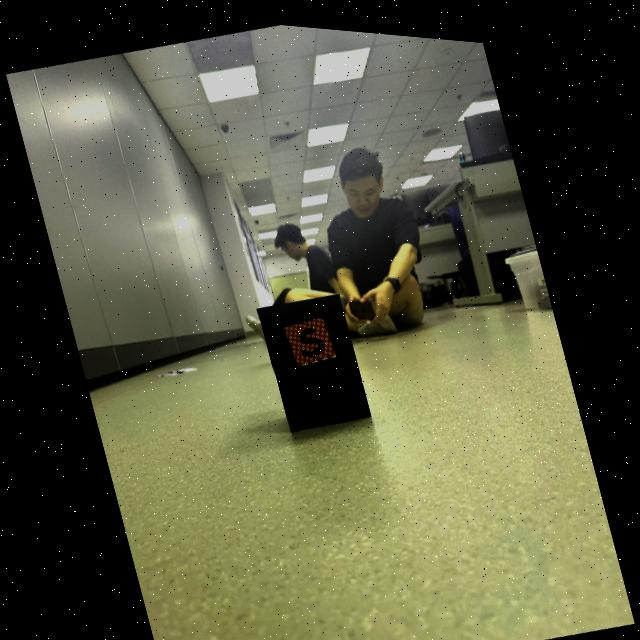S: (300, 322, 324, 350)
